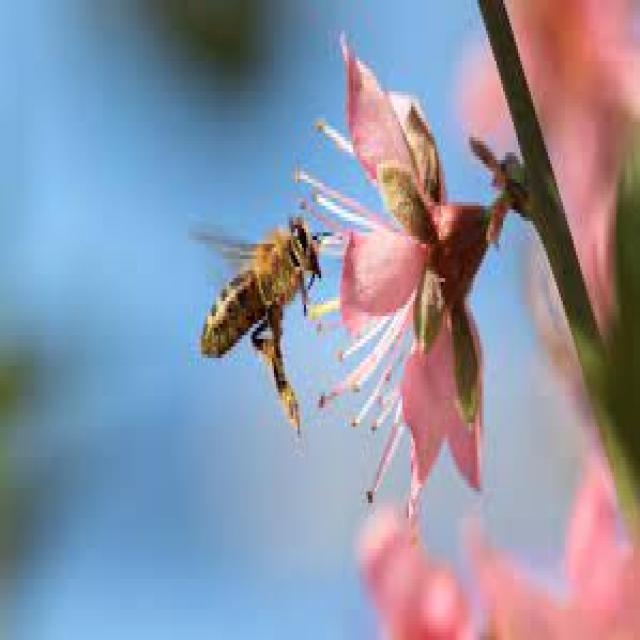Bees: (198, 210, 324, 436)
